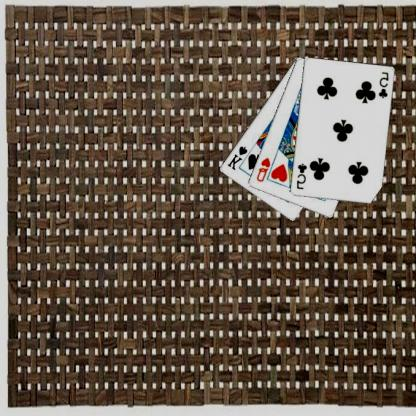5C: (295, 161, 310, 191), (378, 69, 392, 100)
KS: (226, 143, 250, 171)
QH: (255, 154, 273, 184)
